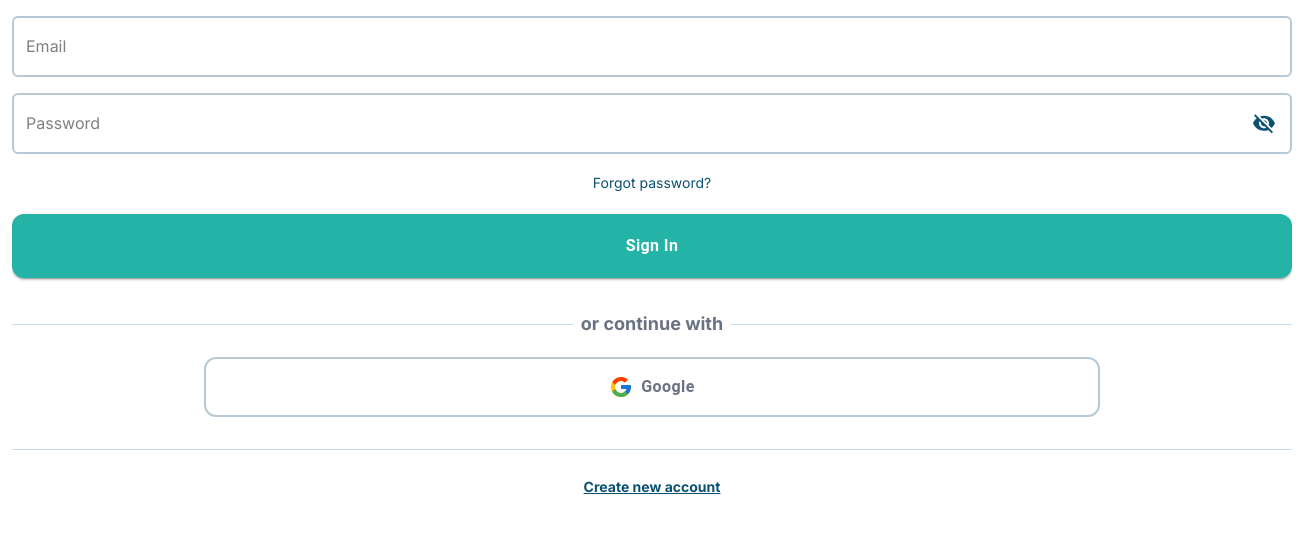
Test case: SignInForm Component › Sign In Flow › shows error when sign in fails due to invalid credentials
The width and height of the screenshot is (1304, 535).
Type "test@example.com" into the field with placeholder "Email" at [652, 46], box [12,16,1292,77]
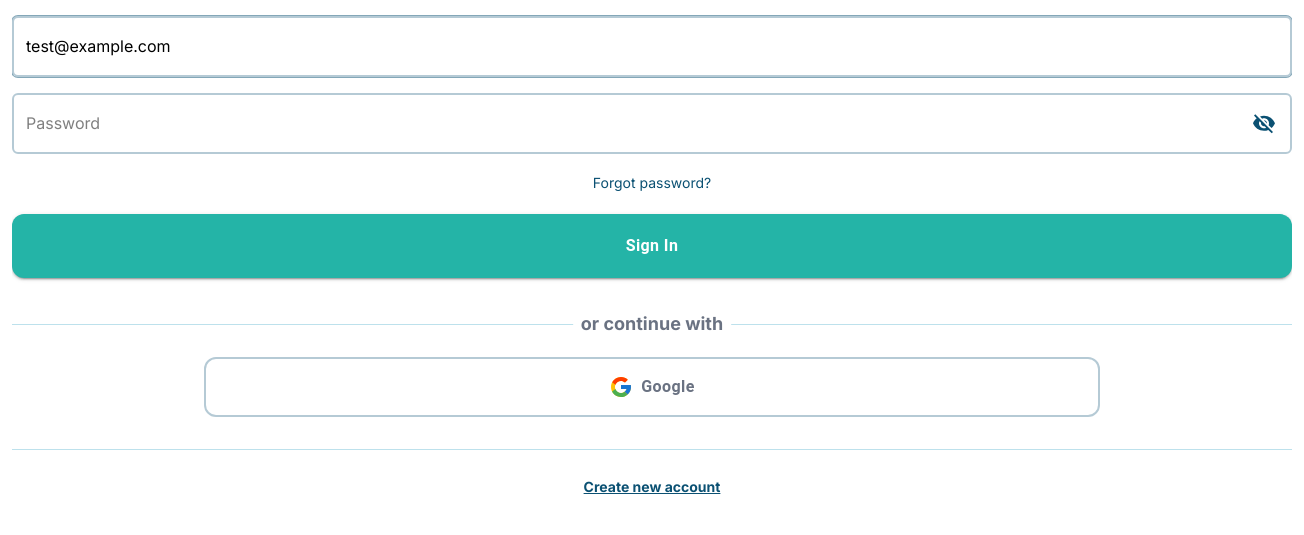
Type "password123" into the password field with placeholder "Password" at [652, 123], box [12,93,1292,154]
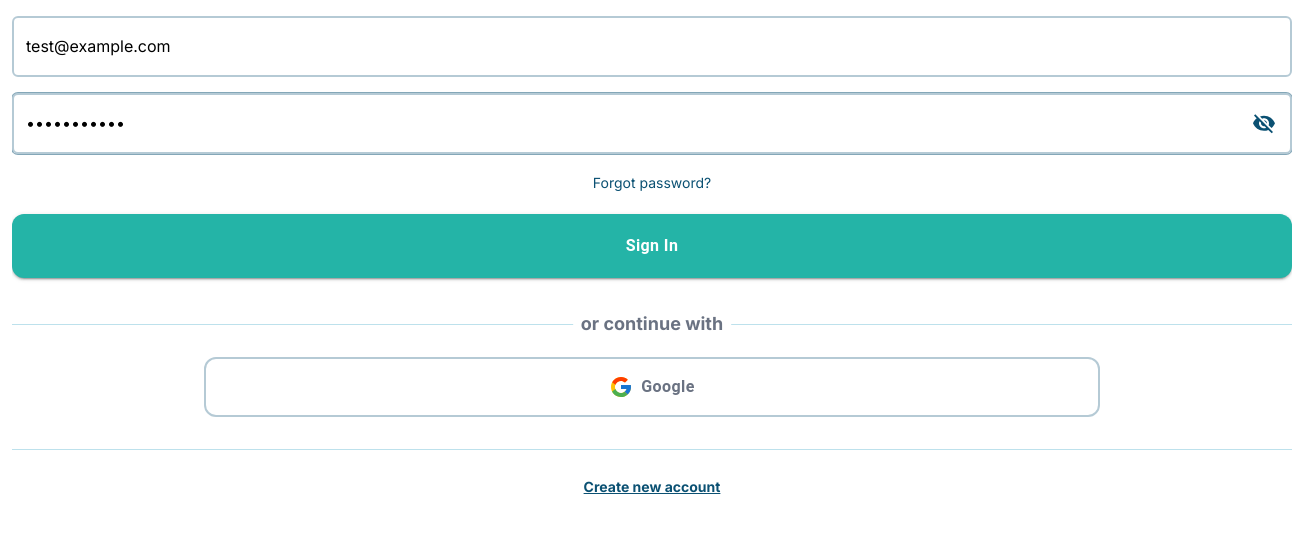
Click the button "Sign In" at [652, 246], box [12,214,1292,278]
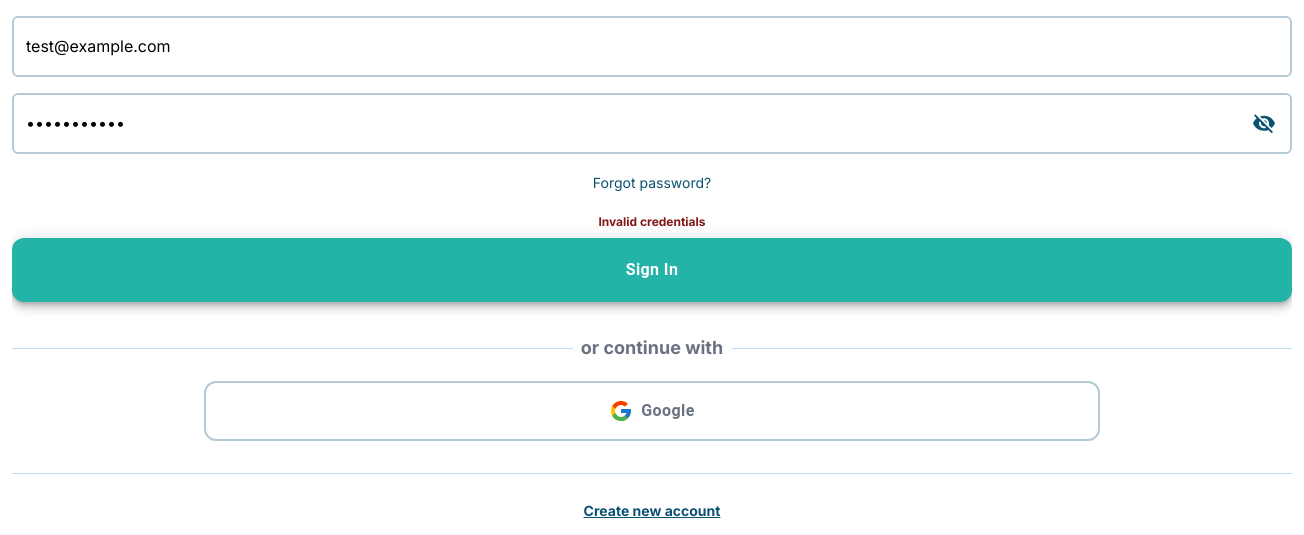
Expected: the text "Invalid credentials" is shown, [598,214,706,229]
